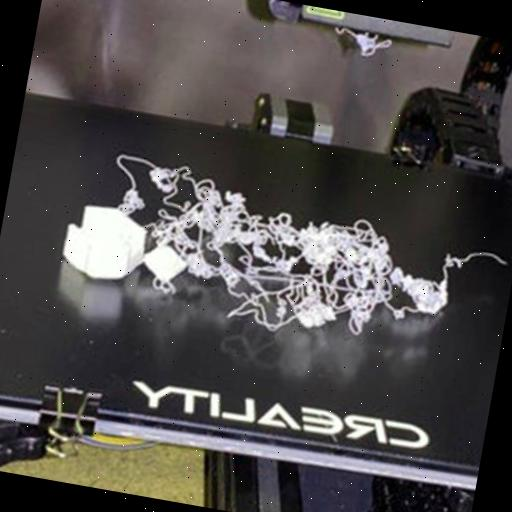spaghetti: (91, 148, 468, 360), (330, 22, 394, 61), (442, 243, 510, 279)
